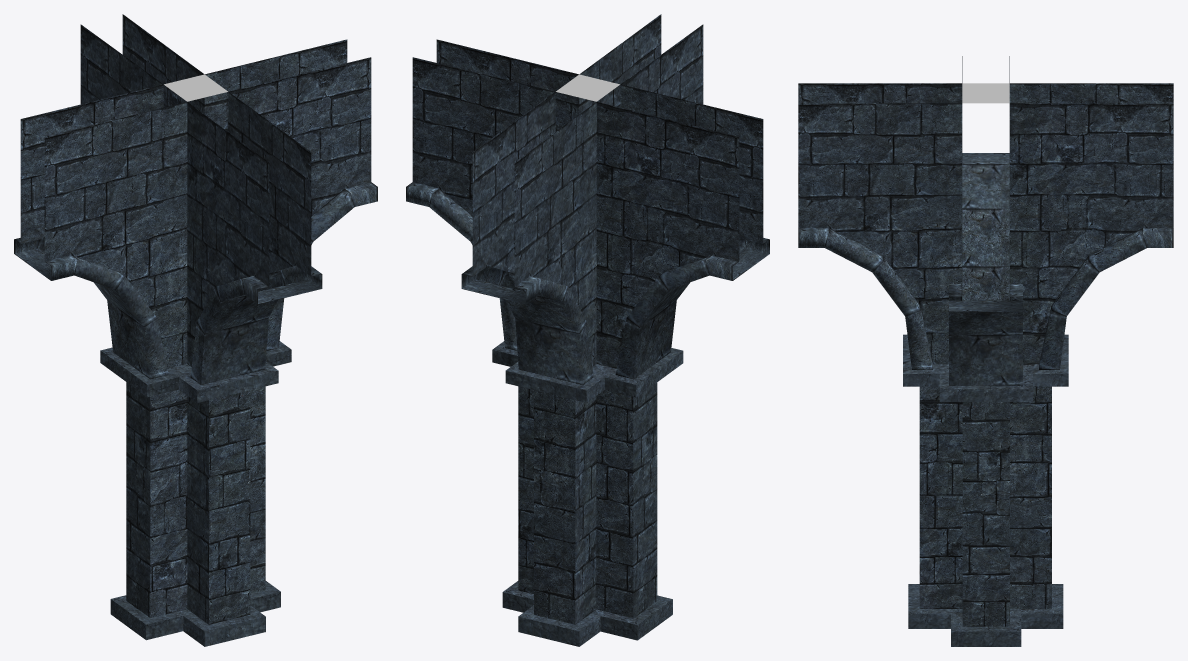
Rendered from Arch_4side.FBX.
3 renders of one model, left to right at view 1: azimuth 30°, elevation 25°; view 2: azimuth 150°, elevation 25°; view 3: azimuth 270°, elevation 25°, orthographic.
Visible parts, largest first — view 1: Arch_4side; view 2: Arch_4side; view 3: Arch_4side.
Part boxes in pixels (box(x1,y1,x2,y2)): Arch_4side: box(14, 14, 377, 646); Arch_4side: box(406, 14, 769, 646); Arch_4side: box(798, 56, 1173, 646).
Bounding box in the file's own units: 45.92 × 70.27 × 45.92.
